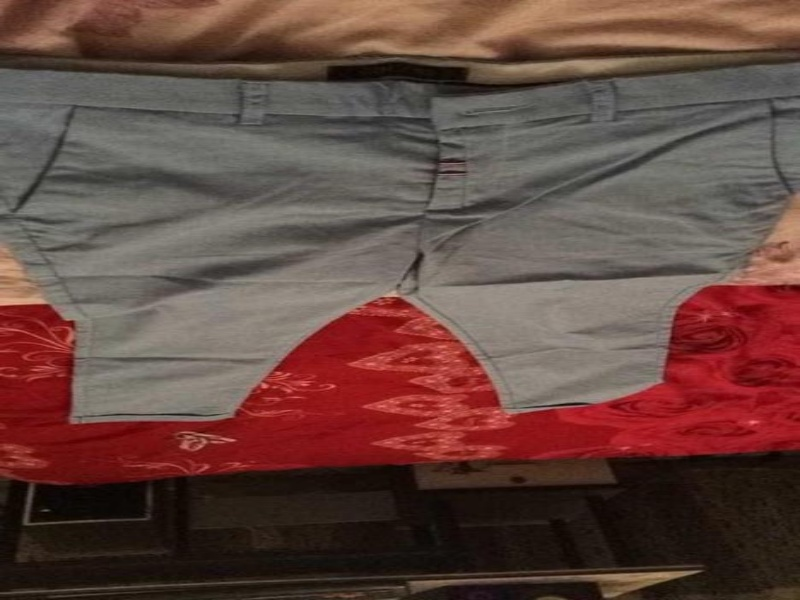trousers: (0, 41, 797, 435)
